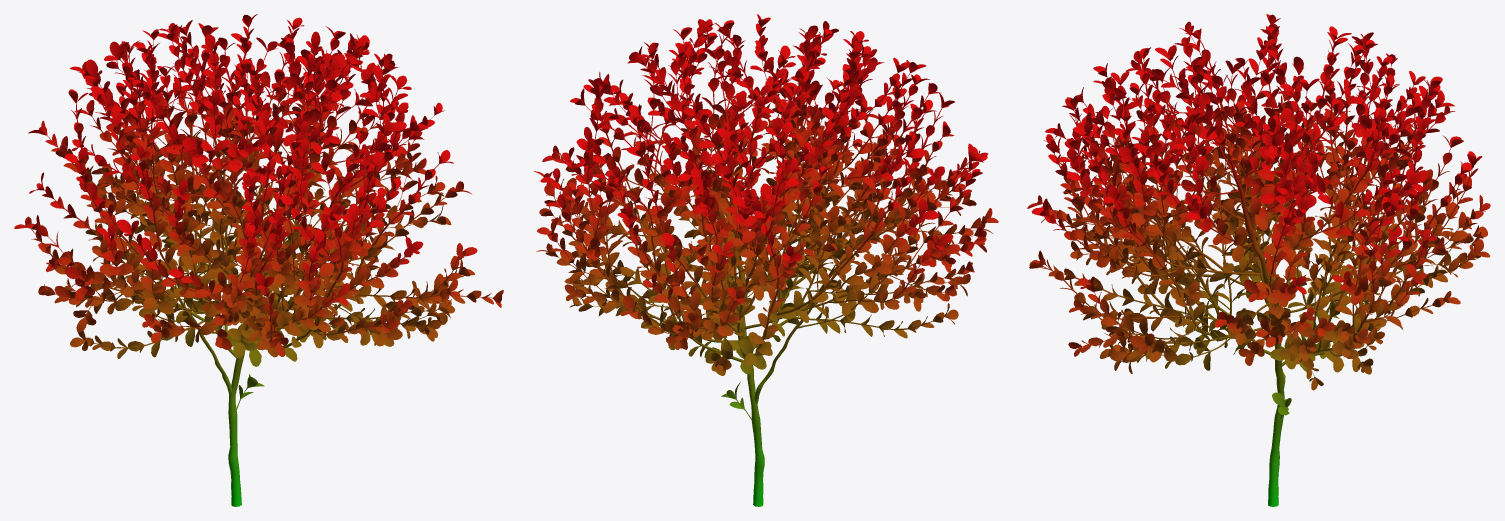
File: Var3_LOD0.fbx
3 views of the same model, side by side, from view 1: azimuth 30°, elevation 25°; view 2: azimuth 150°, elevation 25°; view 3: azimuth 270°, elevation 25° (orthographic). The views are drawn at different scales.
Visible parts, largest first — view 1: _i2iu_Var3_LOD0; view 2: _i2iu_Var3_LOD0; view 3: _i2iu_Var3_LOD0.
Part boxes in pixels (box(x1,y1,x2,y2)): _i2iu_Var3_LOD0: box(14, 14, 503, 506); _i2iu_Var3_LOD0: box(533, 14, 998, 506); _i2iu_Var3_LOD0: box(1027, 14, 1490, 506).
Bounding box in the file's own units: 71.42 × 78.59 × 70.61.
